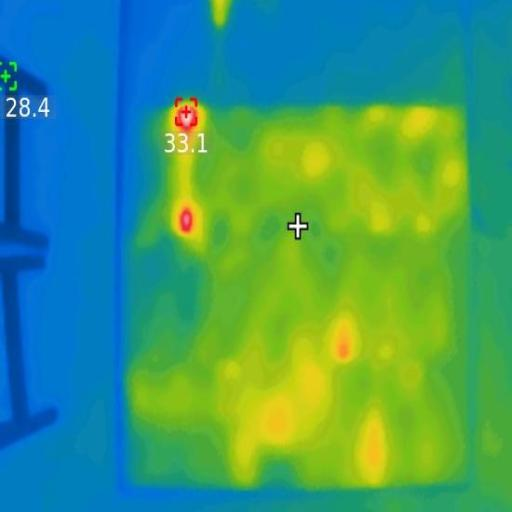hotspot: (174, 106, 202, 131), (178, 206, 194, 235)
